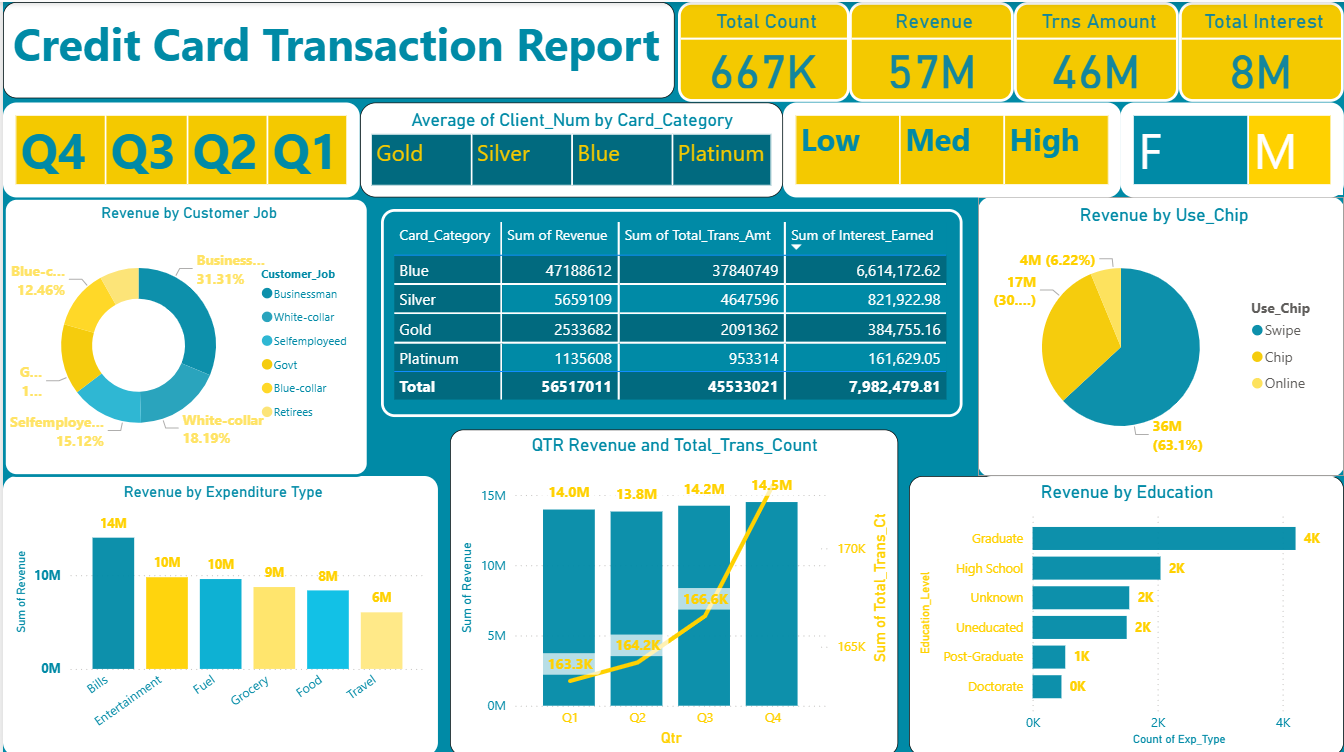

This screenshot's page, from the dashboard's own definition file:
{"tool":"powerbi","page":{"name":"CREDIT_CARD_TRANSACTION","canvas":[1280,720],"ordinal":1},"visuals":[{"type":"textbox","box":[0,0,641,92.3],"z":0},{"type":"lineStackedColumnComboChart","title":"QTR Revenue and Total_Trans_Count","fields":{"Category":["cc_detail.Qtr"],"Y":["Sum(cc_detail.Revenue)"],"Y2":["Sum(cc_detail.Total_Trans_Ct)"]},"box":[426.3,408.8,427.9,311.8],"z":1000},{"type":"columnChart","title":"Revenue by Expenditure Type","fields":{"Category":["cc_detail.Exp_Type"],"Y":["Sum(cc_detail.Revenue)"]},"box":[0,453.3,415.1,267.2],"z":2000},{"type":"barChart","title":"Revenue by Education","fields":{"Category":["cust_detail.Education_Level"],"Y":["CountNonNull(cc_detail.Exp_Type)"]},"box":[865.3,453.3,415.1,267.2],"z":3000},{"type":"donutChart","title":"Revenue by Customer Job","fields":{"Category":["cust_detail.Customer_Job"],"Y":["Sum(cc_detail.Revenue)"]},"box":[0,186.1,349.9,267.2],"z":4000},{"type":"pieChart","title":"Revenue by Use_Chip","fields":{"Category":["cc_detail.Use_Chip"],"Y":["Sum(cc_detail.Revenue)"]},"box":[930.5,186.1,349.9,267.2],"z":5000},{"type":"tableEx","fields":{"Values":["cc_detail.Card_Category","Sum(cc_detail.Revenue)","Sum(cc_detail.Total_Trans_Amt)","Sum(cc_detail.Interest_Earned)"]},"box":[361.1,197.2,555.1,198.8],"z":6000},{"type":"cardVisual","title":"Total Interest","fields":{"Data":["Sum(cc_detail.Interest_Earned)"]},"box":[1123,0,157.5,95.4],"z":7000},{"type":"cardVisual","title":"Revenue","fields":{"Data":["Sum(cc_detail.Revenue)"]},"box":[808,0,157.5,95.4],"z":8000},{"type":"cardVisual","title":"Trns Amount","fields":{"Data":["Sum(cc_detail.Total_Trans_Amt)"]},"box":[965.5,0,157.5,95.4],"z":9000},{"type":"cardVisual","title":"Total Count","fields":{"Data":["Sum(cc_detail.Total_Trans_Ct)"]},"box":[644.2,0,163.8,95.4],"z":10000},{"type":"treemap","fields":{"Group":["cc_detail.Qtr"],"Values":["Avg(cc_detail.Client_Num)"]},"box":[0,95.4,340.4,90.7],"z":11000},{"type":"treemap","fields":{"Group":["cust_detail.Gender"],"Values":["CountNonNull(cc_detail.Client_Num)"]},"box":[1067.3,95.4,213.1,90.7],"z":12000},{"type":"treemap","fields":{"Group":["cust_detail.IncomeGroup"],"Values":["Avg(cc_detail.Client_Num)"]},"box":[744.4,95.4,322.9,90.7],"z":13000},{"type":"treemap","fields":{"Group":["cc_detail.Card_Category"],"Values":["Avg(cc_detail.Client_Num)"]},"box":[340.4,95.4,404,90.7],"z":14000}]}

Visuals, with their boxes in screenshot pixels (x1, y1, x2, y2), scaled from the page's 1280x720 canvas onto the 1344x752 screenshot:
textbox: x1=0 y1=0 x2=673 y2=96
"QTR Revenue and Total_Trans_Count" lineStackedColumnComboChart: x1=448 y1=427 x2=897 y2=751
"Revenue by Expenditure Type" columnChart: x1=0 y1=473 x2=436 y2=751
"Revenue by Education" barChart: x1=909 y1=473 x2=1343 y2=751
"Revenue by Customer Job" donutChart: x1=0 y1=194 x2=367 y2=473
"Revenue by Use_Chip" pieChart: x1=977 y1=194 x2=1343 y2=473
tableEx - cc_detail.Card_Category x Sum(cc_detail.Revenue): x1=379 y1=206 x2=962 y2=414
"Total Interest" cardVisual: x1=1179 y1=0 x2=1343 y2=100
"Revenue" cardVisual: x1=848 y1=0 x2=1014 y2=100
"Trns Amount" cardVisual: x1=1014 y1=0 x2=1179 y2=100
"Total Count" cardVisual: x1=676 y1=0 x2=848 y2=100
treemap - cc_detail.Qtr x Avg(cc_detail.Client_Num): x1=0 y1=100 x2=357 y2=194
treemap - cust_detail.Gender x CountNonNull(cc_detail.Client_Num): x1=1121 y1=100 x2=1343 y2=194
treemap - cust_detail.IncomeGroup x Avg(cc_detail.Client_Num): x1=782 y1=100 x2=1121 y2=194
treemap - cc_detail.Card_Category x Avg(cc_detail.Client_Num): x1=357 y1=100 x2=782 y2=194
